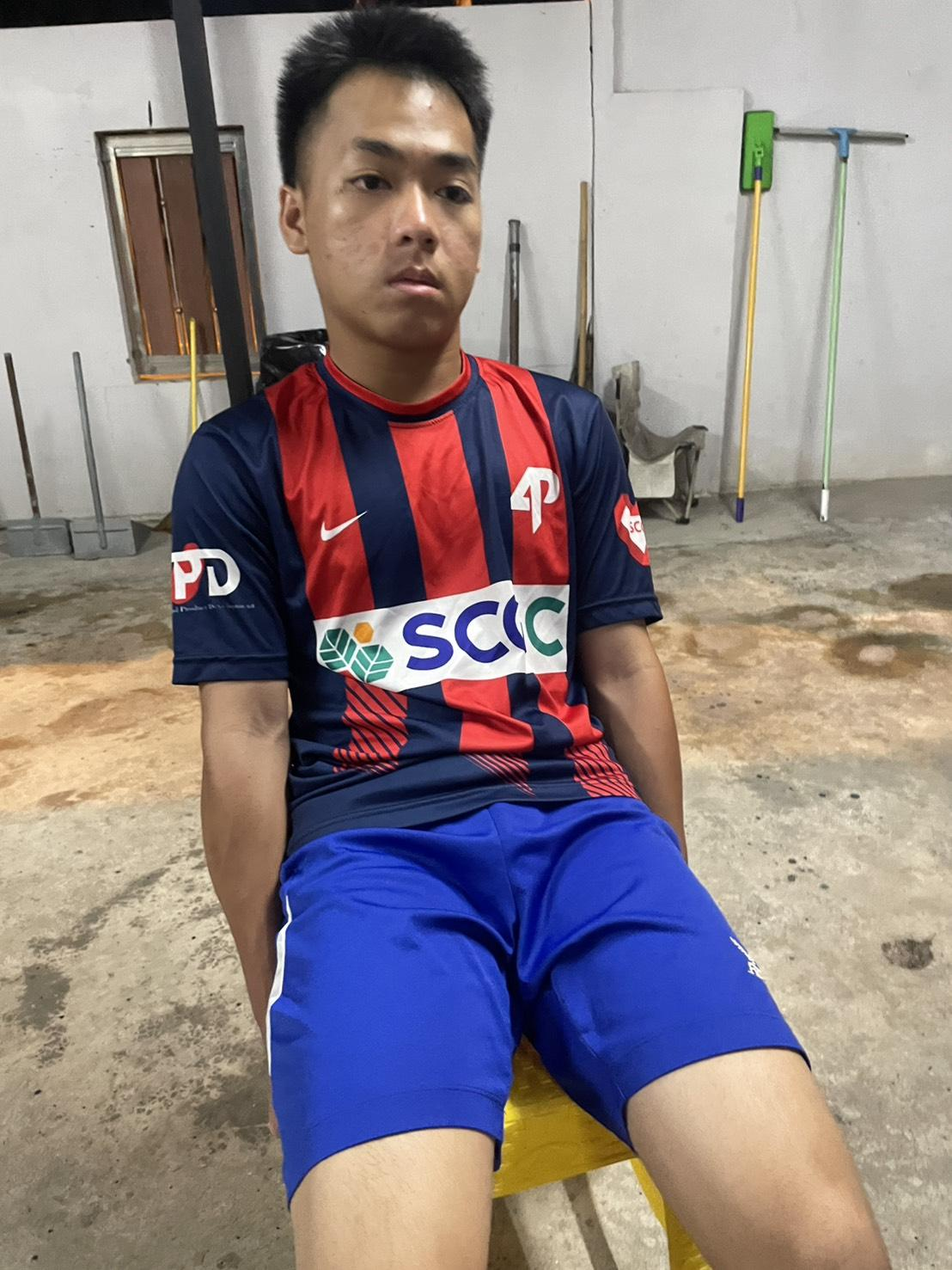BadPosture: (172, 11, 797, 1095)
